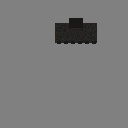armoured_vehicle: (55, 23, 97, 43)
